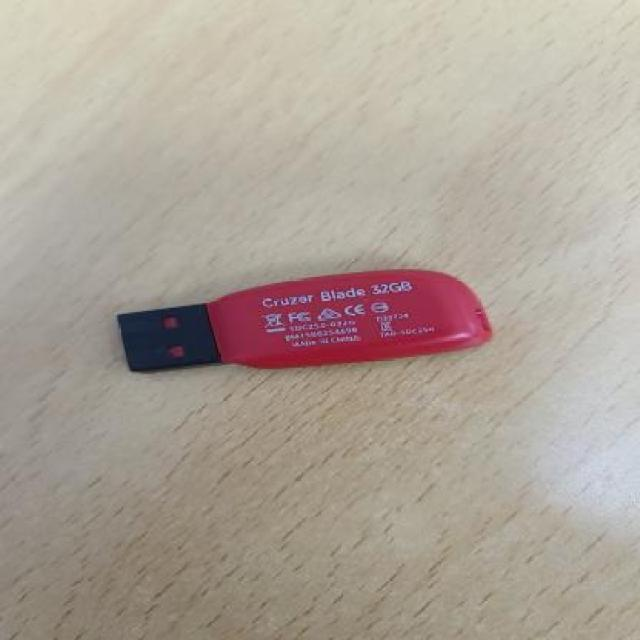Flashdisk: (111, 267, 498, 376)
